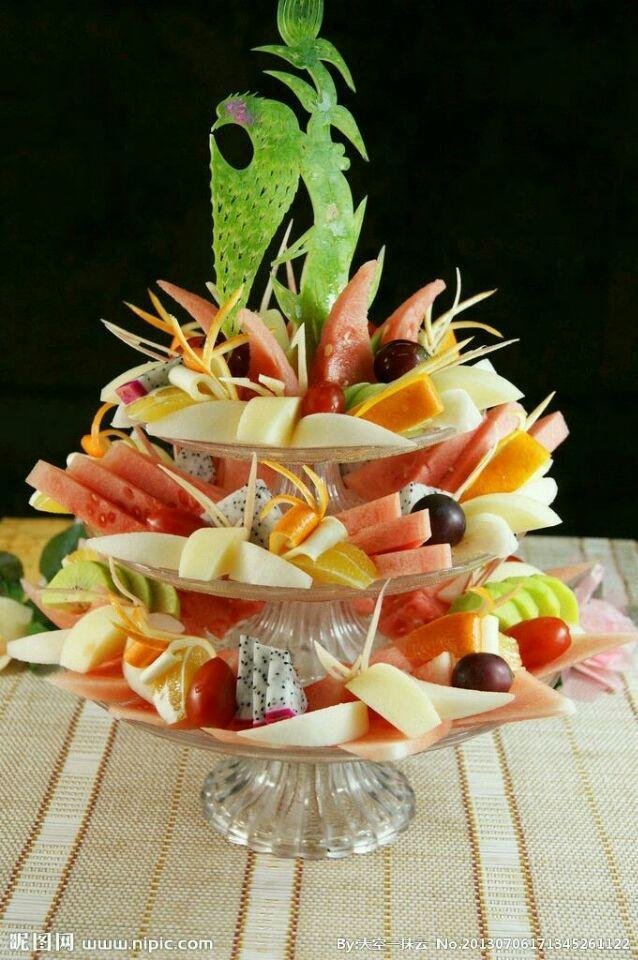apple: (342, 660, 441, 739), (449, 652, 512, 691)
